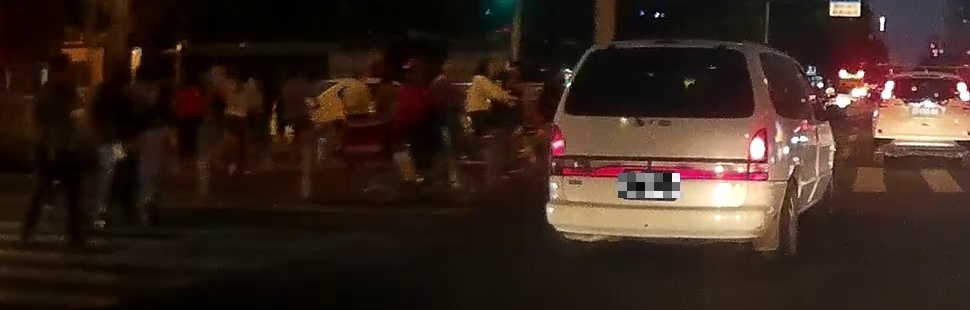L_light: (545, 123, 566, 177)
R_light: (745, 127, 769, 181)
T_light: (652, 45, 685, 56)
night-right: (545, 40, 770, 258)
plate_1: (618, 173, 680, 198)
